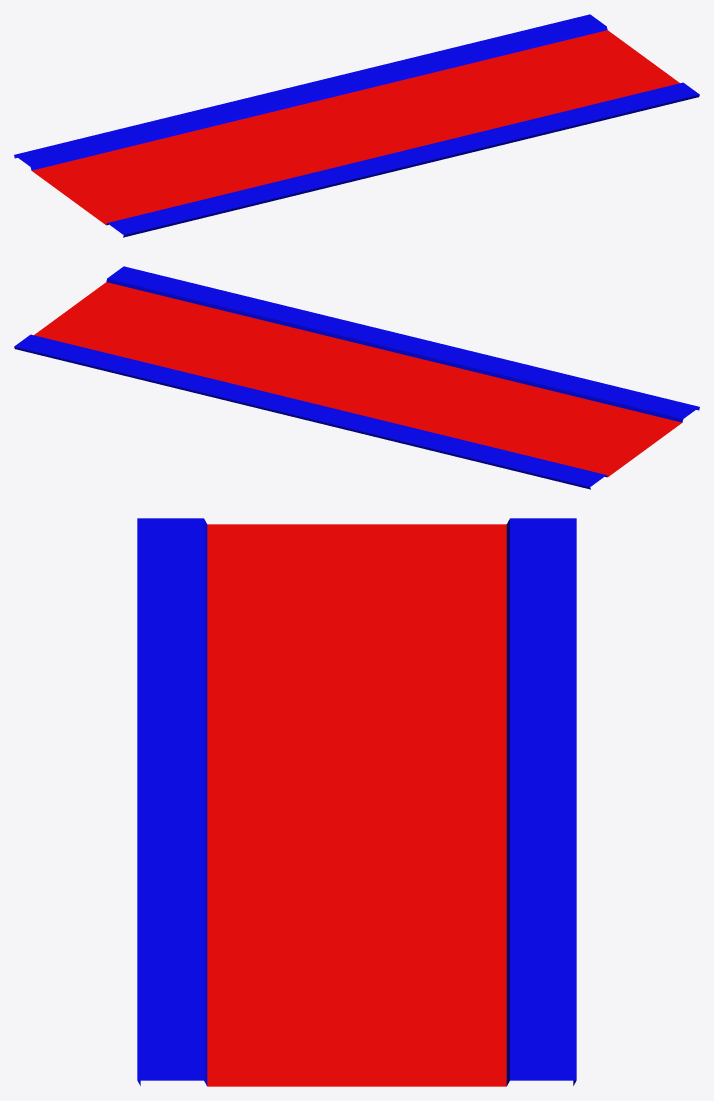
The model's file is SM_Road.fbx.
3 renders of one model, top to bottom at view 1: azimuth 30°, elevation 25°; view 2: azimuth 150°, elevation 25°; view 3: azimuth 270°, elevation 25°, orthographic. The views are drawn at different scales.
Visible parts, largest first — view 1: SM_Road.006; view 2: SM_Road.006; view 3: SM_Road.006.
Part boxes in pixels (left/top/right/bottom): SM_Road.006: left=14, top=14, right=699, bottom=237; SM_Road.006: left=14, top=266, right=699, bottom=489; SM_Road.006: left=137, top=518, right=576, bottom=1086.
Bounding box in the file's own units: 40 × 0.2019 × 13.2.
